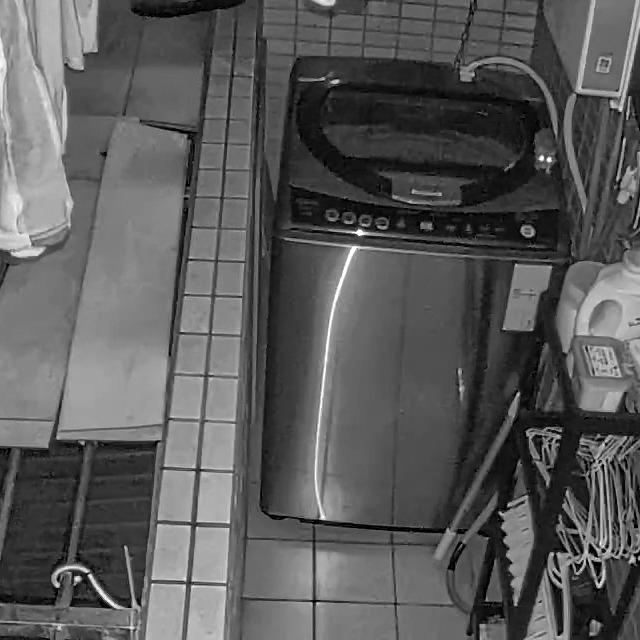rat: (532, 126, 559, 177)
